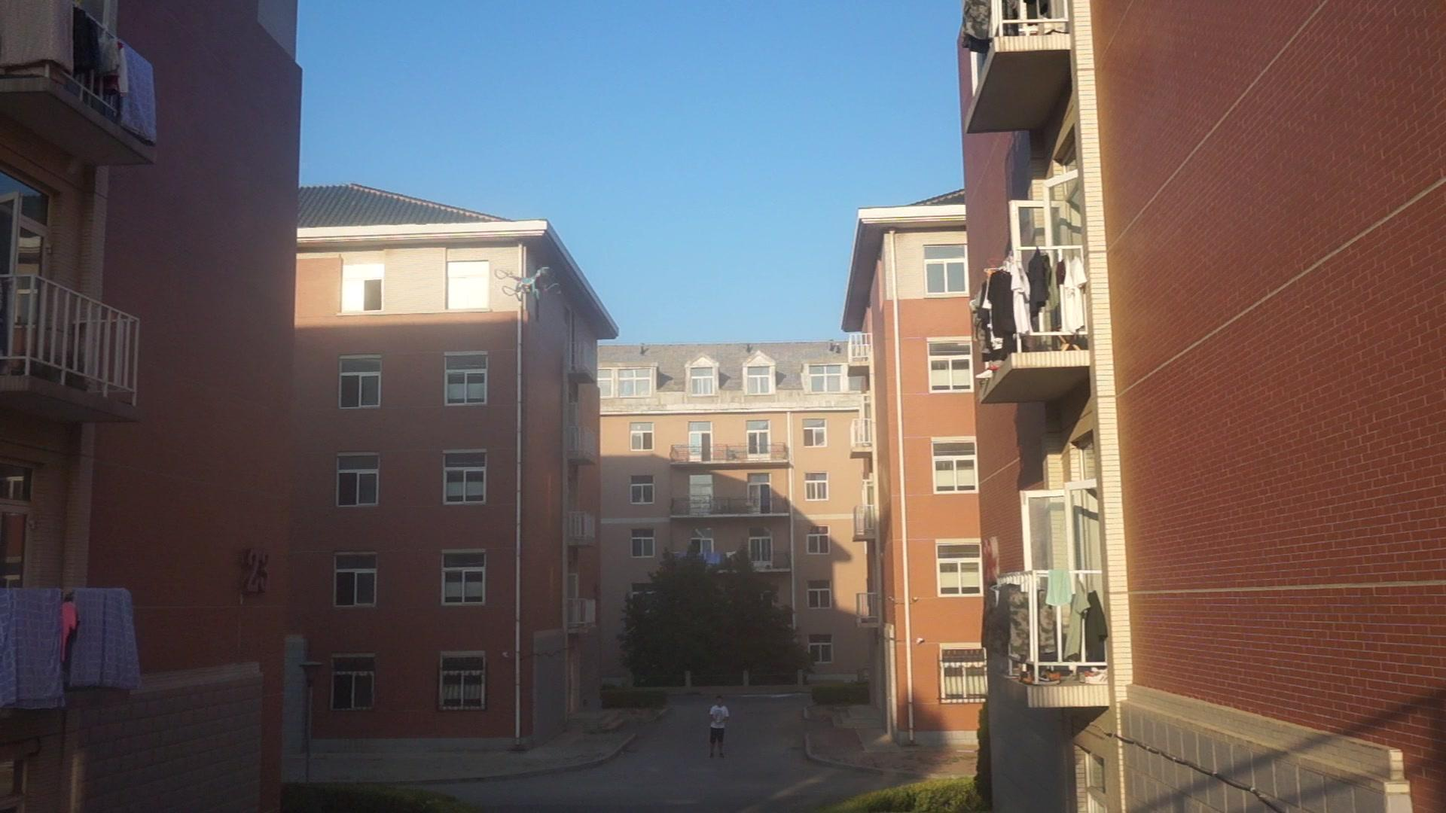UAV: (495, 266, 563, 302)
